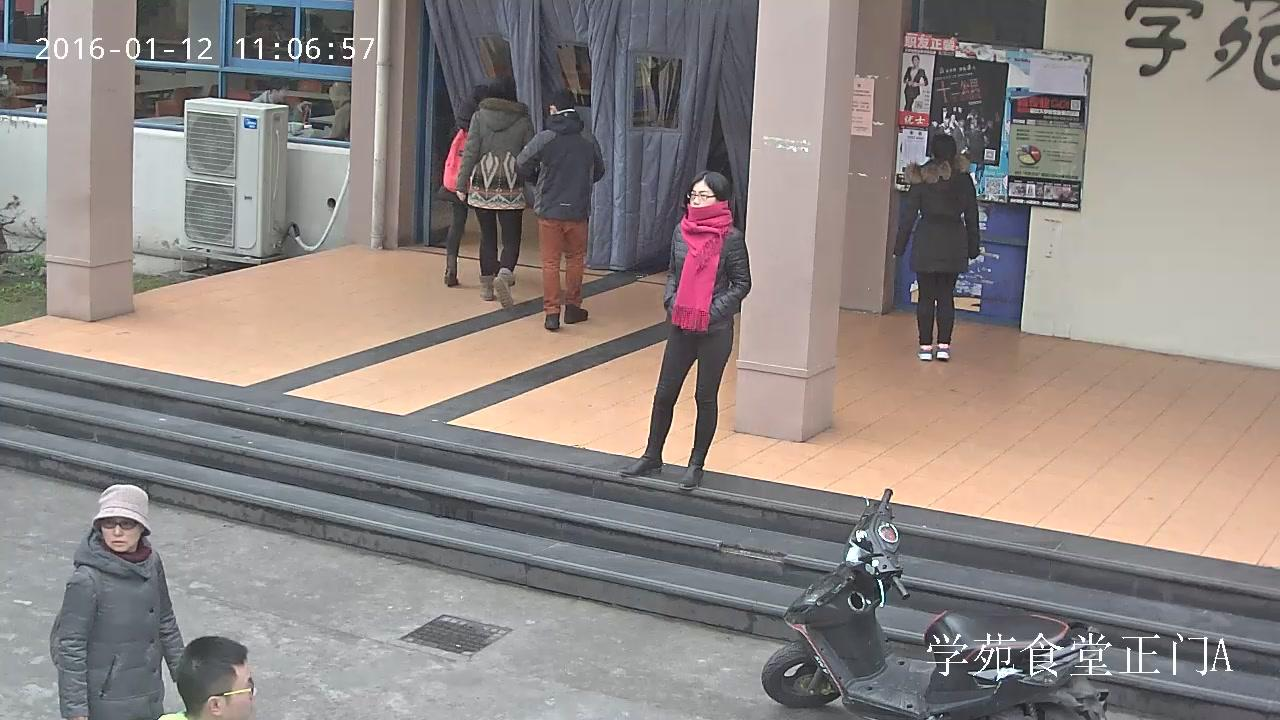person: (620, 170, 751, 489), (50, 484, 184, 720), (515, 88, 604, 330), (894, 135, 980, 360), (456, 79, 535, 314), (443, 84, 500, 288), (250, 77, 313, 122), (326, 82, 351, 140), (903, 55, 928, 111)
